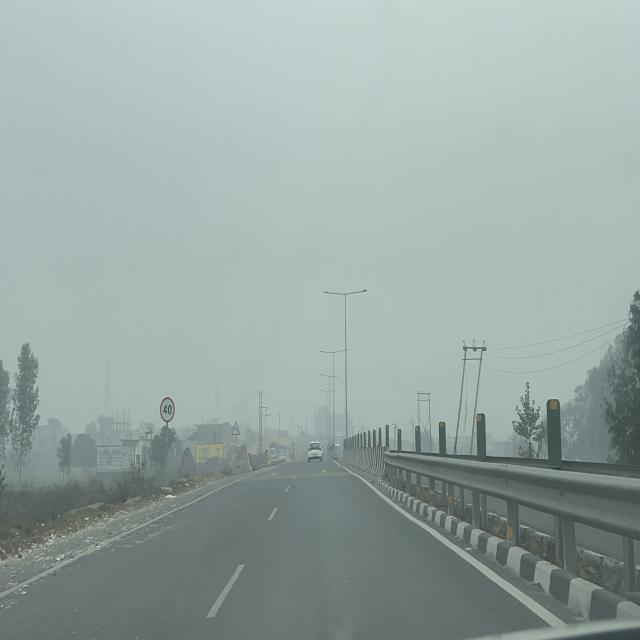LEFT_TURN_AHEAD: (232, 421, 240, 435)
SPEED_LIMIT_40: (160, 397, 175, 423)
